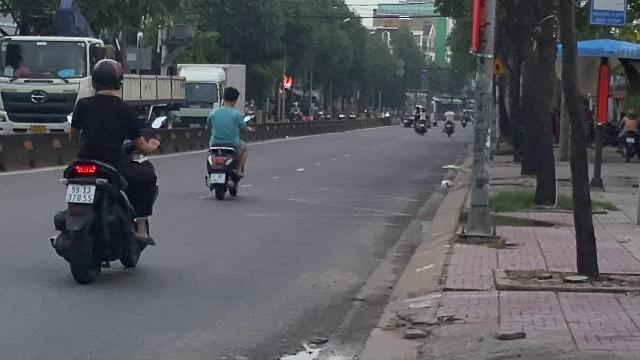helmet: (89, 57, 125, 94)
licenseplate: (66, 184, 94, 202), (210, 174, 224, 182)
motorcyclist: (50, 56, 160, 282), (201, 86, 249, 200)
nohelmet: (221, 86, 239, 106)
